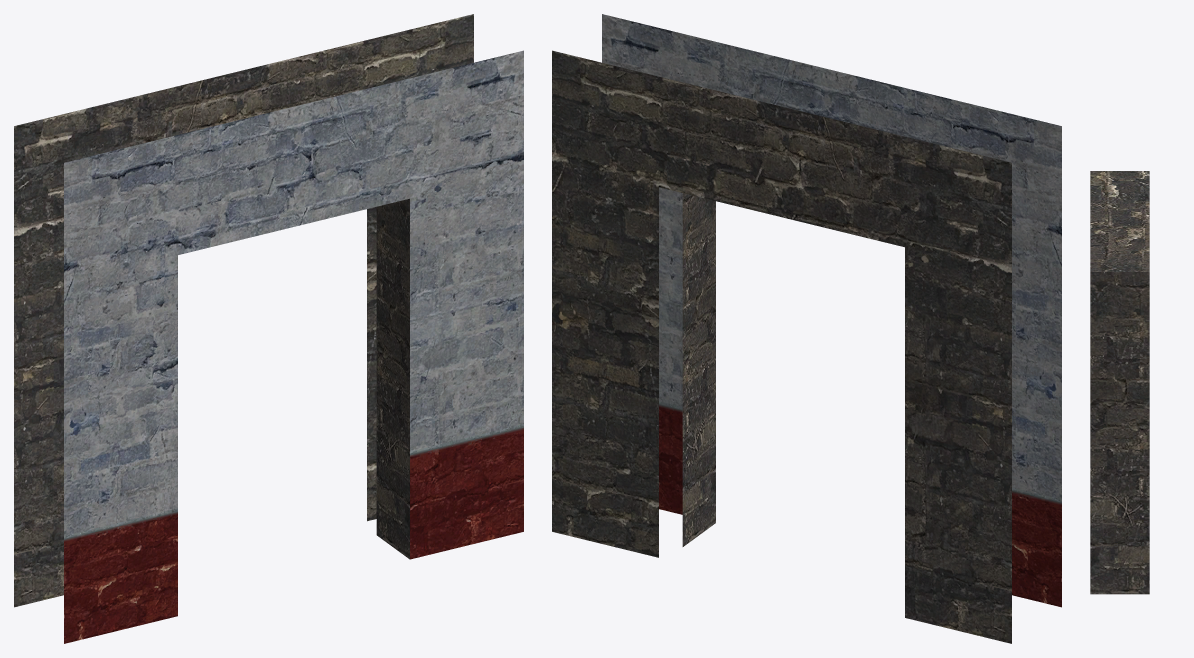
Rendered from secret_wall_factory.DAE.
The picture shows the model from 3 angles, left to right: view 1: azimuth 30°, elevation 25°; view 2: azimuth 150°, elevation 25°; view 3: azimuth 270°, elevation 25°; orthographic projection. The views are drawn at different scales.
Visible parts, largest first — view 1: Box025, Object002; view 2: Object002, Box025; view 3: Object002.
Part boxes in pixels (box(x1,y1,x2,y2)): Box025: box(64, 50, 523, 643); Object002: box(14, 14, 473, 607); Object002: box(552, 50, 1011, 643); Box025: box(602, 14, 1061, 607); Object002: box(1090, 171, 1149, 594).
Bounding box in the file's own units: 4 × 4 × 0.7523.
